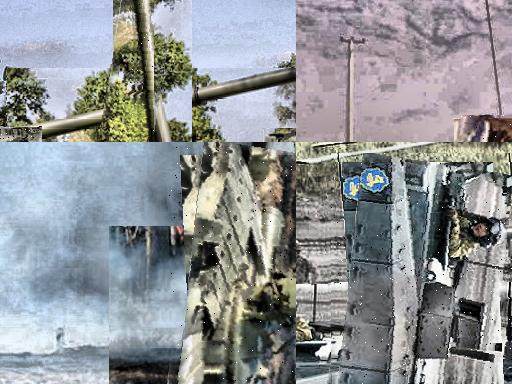tanks: (337, 155, 512, 384), (178, 143, 297, 384), (134, 1, 155, 143), (461, 116, 512, 143), (1, 127, 42, 143)
